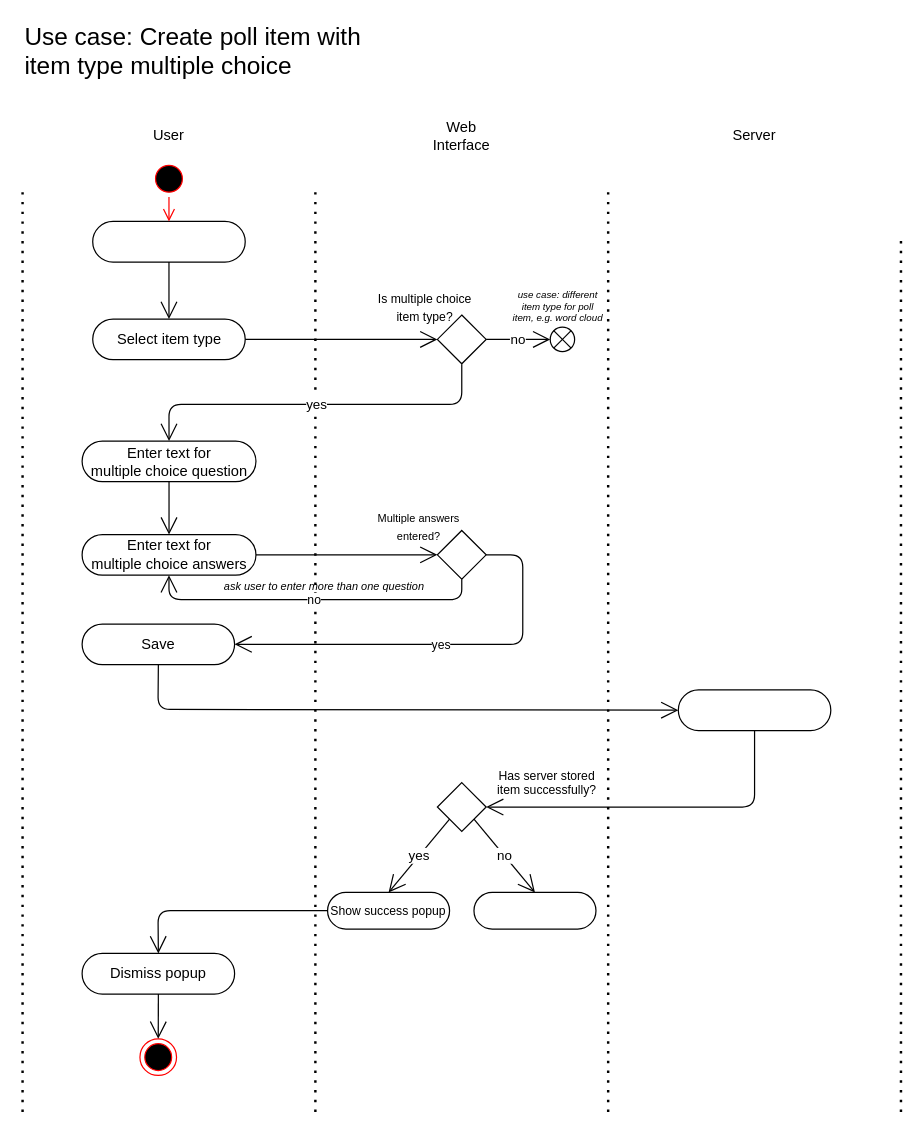
This 924x1135 diagram has some shape labels left out. Here are the shapes that lost their labels. From the top down, the centre of each, then its label:
At (168,241): "Create item".
At (754,710): "Store multiple choice poll item".
At (534,910): "Show failure popup".
